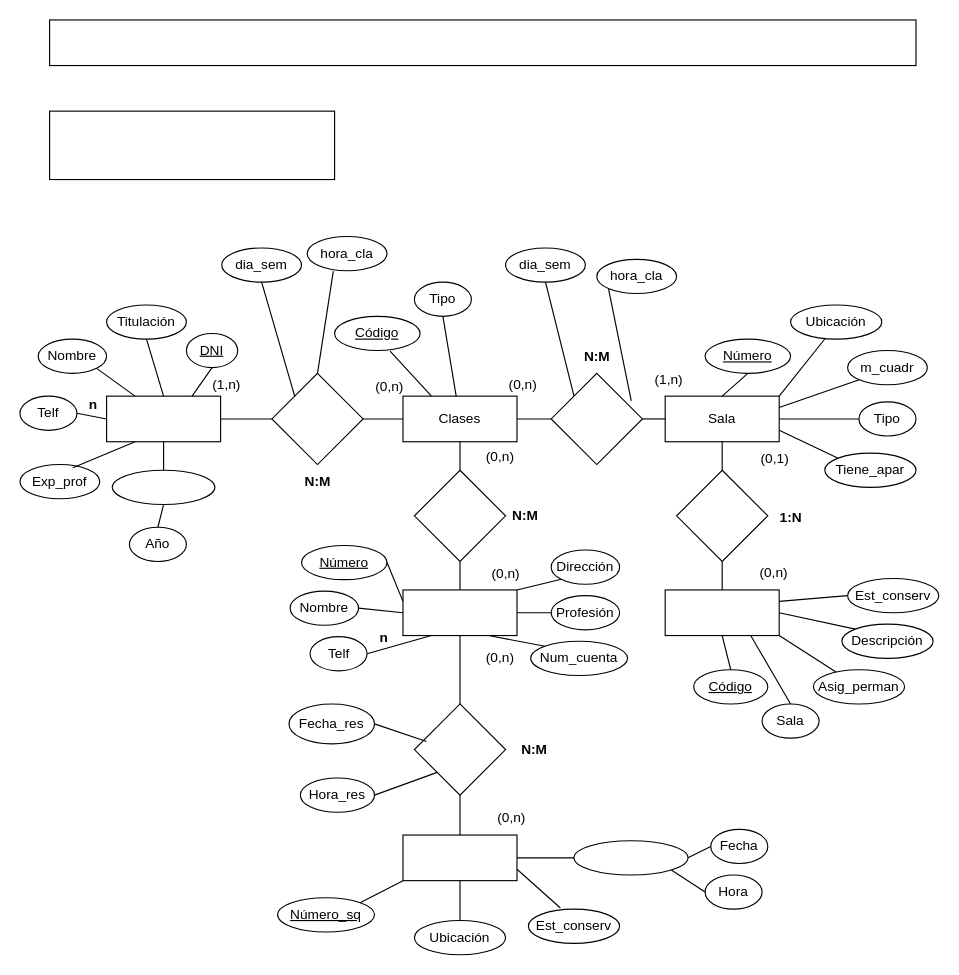
Image size: 959x975. Some labels were removed from this diagram. Here are the shapes that lost their labels. From the top down, the box of each, then its label:
(48, 19, 916, 66): 5. Diagrama E-R. Gimnasio
(48, 110, 335, 180): a) Diagrama a partir de la información proporcionada por el gimnasio
(105, 395, 221, 442): Monitores
(271, 372, 363, 465): Imparte
(550, 372, 642, 465): Impartida en
(111, 469, 215, 504): Preparación
(413, 469, 506, 561): Recibe
(675, 469, 768, 561): Tiene
(402, 589, 517, 636): Socios
(664, 589, 779, 636): Aparatos
(413, 703, 506, 795): Reserva
(402, 834, 517, 881): Pista_squash
(573, 840, 688, 875): Res_anteriores
